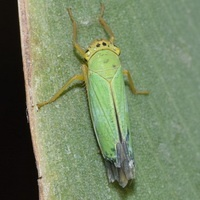insect: (37, 3, 148, 187)
